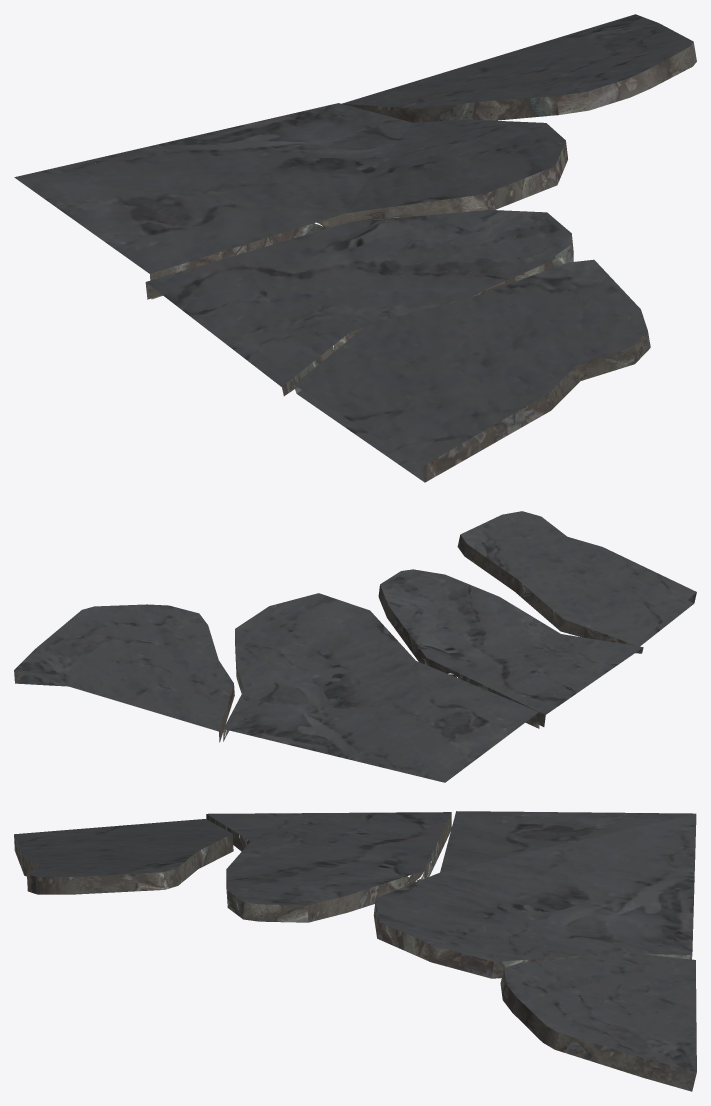
3 views of the same model, one above another, from view 1: azimuth 30°, elevation 25°; view 2: azimuth 150°, elevation 25°; view 3: azimuth 270°, elevation 25° (orthographic). The views are drawn at different scales.
Parts seen in each view (by area): view 1: SM_Kuldra_Floor_Dmg_06_LOD0; view 2: SM_Kuldra_Floor_Dmg_06_LOD0; view 3: SM_Kuldra_Floor_Dmg_06_LOD0.
Boxes of the visible parts, box(x1,y1,x2,y2) form: SM_Kuldra_Floor_Dmg_06_LOD0: box(14, 14, 696, 482); SM_Kuldra_Floor_Dmg_06_LOD0: box(14, 511, 696, 782); SM_Kuldra_Floor_Dmg_06_LOD0: box(14, 811, 696, 1091).
Size of the model in its own units: 3.52 by 0.5291 by 3.72.
Materials: 2 (2 with a texture image).
